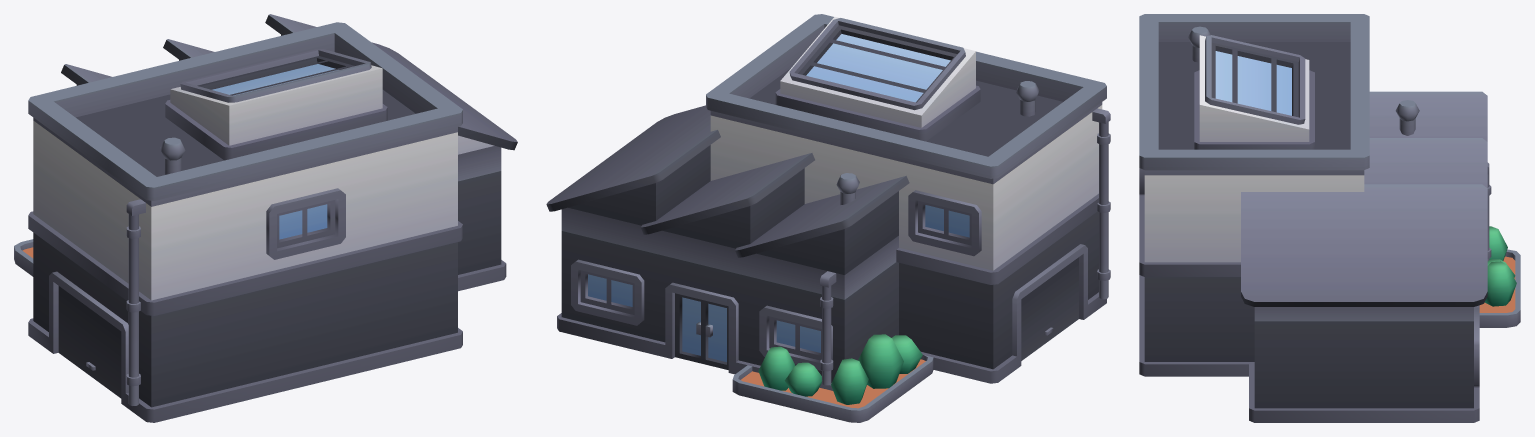
The model's file is k-city-kit-industrial-building-t.glb.
3 views of the same model, side by side, from view 1: azimuth 30°, elevation 25°; view 2: azimuth 150°, elevation 25°; view 3: azimuth 270°, elevation 25° (orthographic). The views are drawn at different scales.
Parts seen in each view (by area): view 1: building-t; view 2: building-t; view 3: building-t.
Boxes of the visible parts, x1,y1,x2,y2 form: building-t: (14,14,517,422); building-t: (546,14,1110,422); building-t: (1139,14,1520,422).
Bounding box in the file's own units: 1.72 × 1.01 × 1.39.
Materials: 1 (1 with a texture image).
